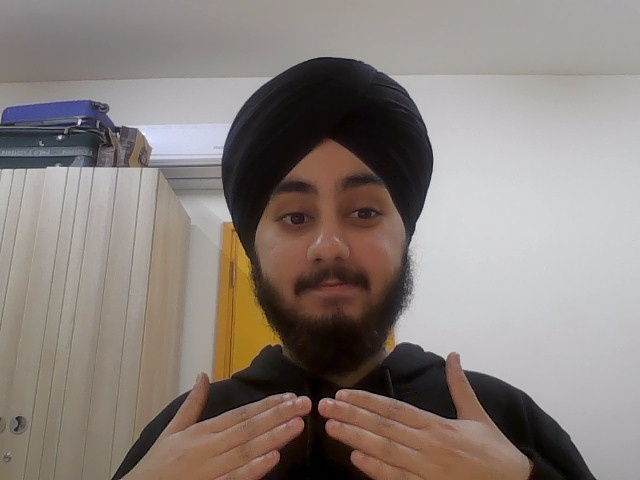Thanks: (125, 352, 537, 480)
